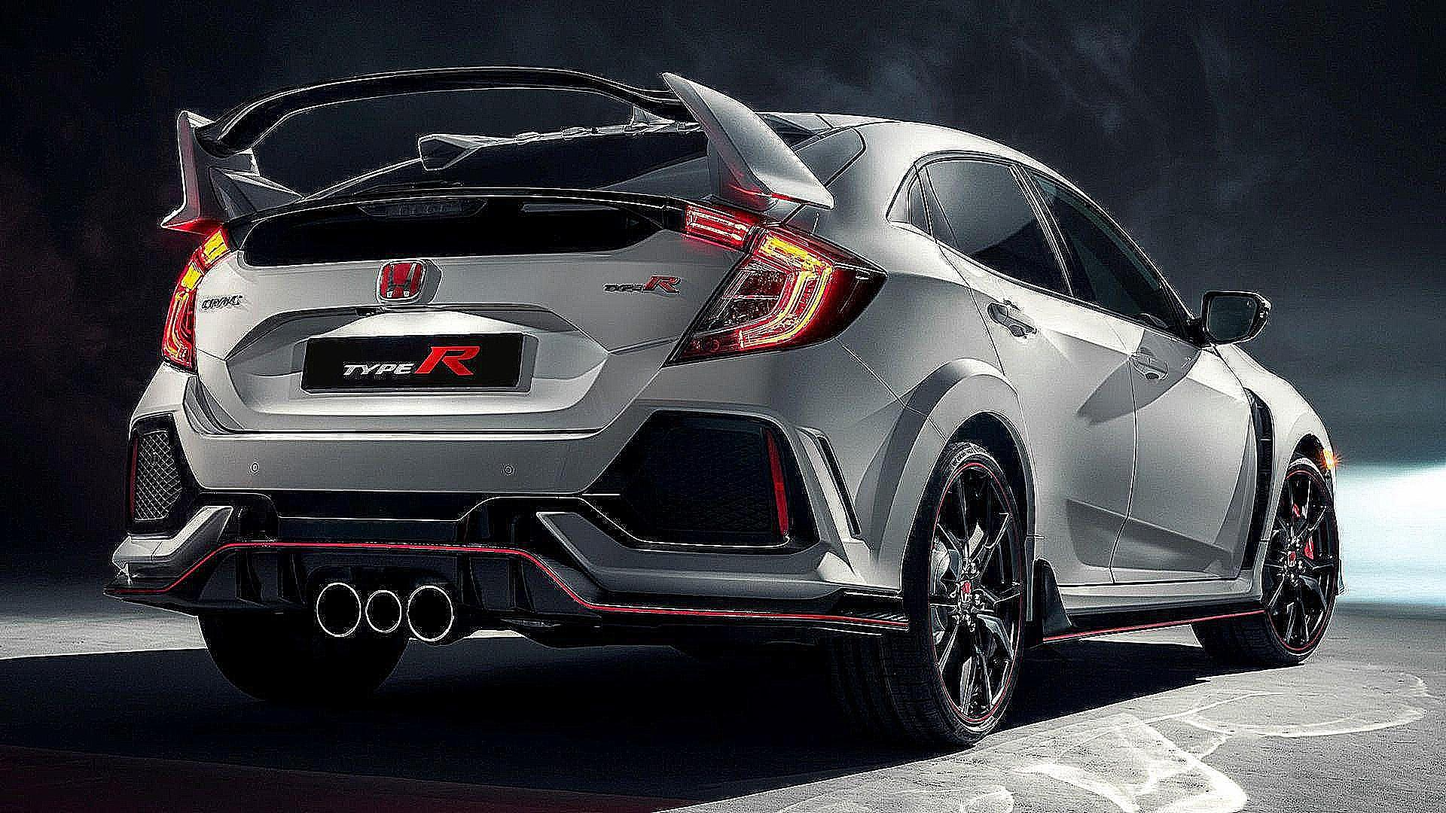Car boot: (194, 173, 743, 451)
Driver-s door - -F-R-: (1085, 179, 1258, 593)
Fender - -F-R-: (1238, 339, 1314, 614)
Fender - -R-R-: (825, 197, 1024, 506)
Passenger-s door - -R-R-: (927, 130, 1135, 593)
Rear bumper: (98, 360, 924, 667)
Rear light - -L-: (151, 211, 250, 374)
Rear light - -R-: (655, 198, 892, 373)
Side bumper - -R-: (1009, 554, 1277, 658)
Side mirror - -R-: (1186, 275, 1284, 350)
